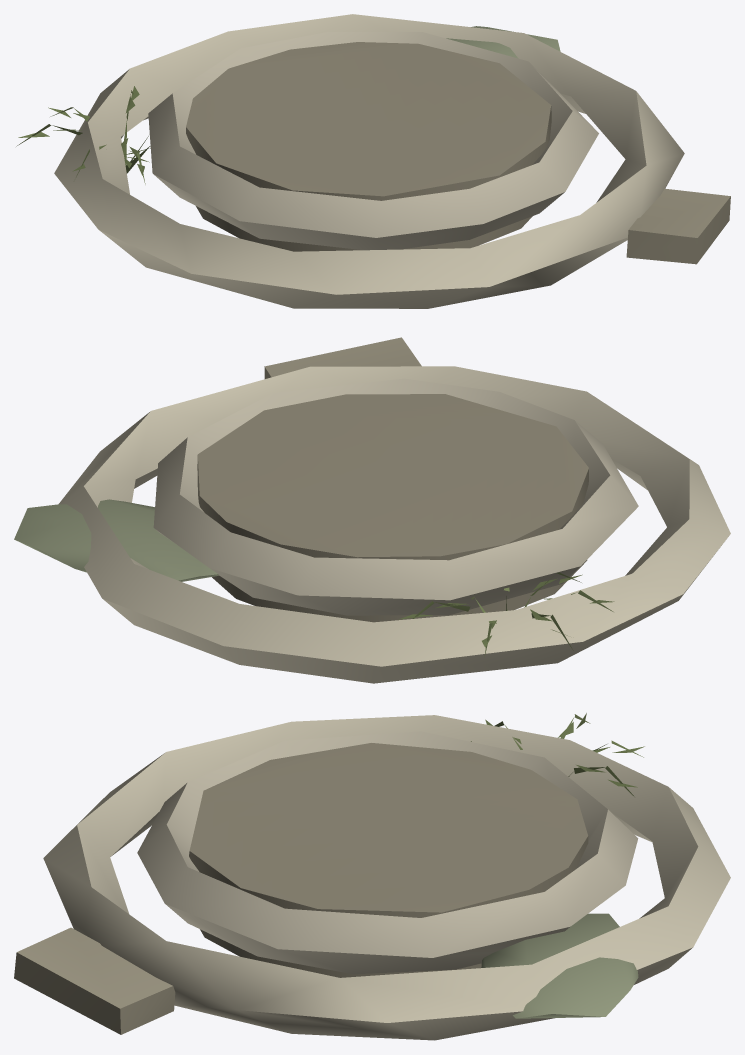
Rendered from mist_rings_b_lod2.glb.
3 renders of one model, top to bottom at view 1: azimuth 30°, elevation 25°; view 2: azimuth 150°, elevation 25°; view 3: azimuth 270°, elevation 25°, orthographic. The views are drawn at different scales.
Parts seen in each view (by area): view 1: Surface.001; view 2: Surface.001; view 3: Surface.001.
Boxes of the visible parts, left/top/right/bottom form: Surface.001: left=16, top=14, right=730, bottom=308; Surface.001: left=14, top=337, right=730, bottom=683; Surface.001: left=14, top=713, right=730, bottom=1040.
Size of the model in its own units: 4 by 0.5412 by 4.17.
